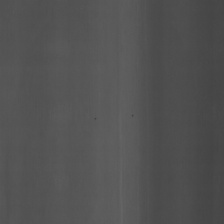inclusion: (128, 110, 137, 121), (92, 112, 98, 126)
